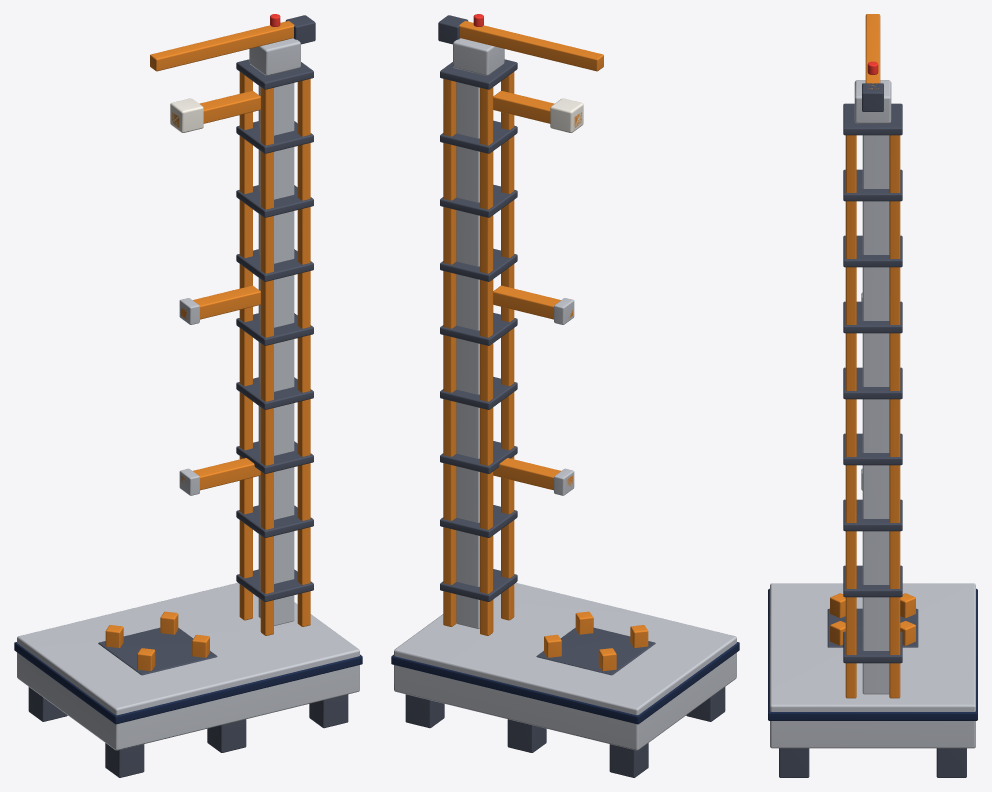
The model's file is Scene_LaunchPad.glb.
The picture shows the model from 3 angles, left to right: view 1: azimuth 30°, elevation 25°; view 2: azimuth 150°, elevation 25°; view 3: azimuth 270°, elevation 25°; orthographic projection. The views are drawn at different scales.
Visible parts, largest first — view 1: Scene_LaunchPad.Tower, Scene_LaunchPad.Platform, Scene_LaunchPad.Crane, Scene_LaunchPad.Legs, Scene_LaunchPad.Move_Arm_3, Scene_LaunchPad.Move_Arm_2, Scene_LaunchPad.Move_Arm_1, Scene_LaunchPad.HoldDowns; view 2: Scene_LaunchPad.Tower, Scene_LaunchPad.Platform, Scene_LaunchPad.Crane, Scene_LaunchPad.Legs, Scene_LaunchPad.Move_Arm_3, Scene_LaunchPad.Move_Arm_2, Scene_LaunchPad.Move_Arm_1, Scene_LaunchPad.HoldDowns; view 3: Scene_LaunchPad.Tower, Scene_LaunchPad.Platform, Scene_LaunchPad.Crane, Scene_LaunchPad.Legs, Scene_LaunchPad.HoldDowns.
Boxes of the visible parts, x1=… form: Scene_LaunchPad.Tower: x1=236, y1=59, x2=313, y2=635; Scene_LaunchPad.Platform: x1=14, y1=583, x2=362, y2=750; Scene_LaunchPad.Crane: x1=150, y1=15, x2=315, y2=75; Scene_LaunchPad.Legs: x1=28, y1=687, x2=348, y2=777; Scene_LaunchPad.Move_Arm_3: x1=170, y1=91, x2=260, y2=132; Scene_LaunchPad.Move_Arm_2: x1=179, y1=285, x2=260, y2=324; Scene_LaunchPad.Move_Arm_1: x1=179, y1=458, x2=260, y2=495; Scene_LaunchPad.HoldDowns: x1=105, y1=611, x2=209, y2=671; Scene_LaunchPad.Tower: x1=440, y1=59, x2=517, y2=635; Scene_LaunchPad.Platform: x1=391, y1=583, x2=739, y2=750; Scene_LaunchPad.Crane: x1=438, y1=15, x2=603, y2=75; Scene_LaunchPad.Legs: x1=405, y1=687, x2=725, y2=777; Scene_LaunchPad.Move_Arm_3: x1=493, y1=91, x2=583, y2=132; Scene_LaunchPad.Move_Arm_2: x1=493, y1=285, x2=574, y2=324; Scene_LaunchPad.Move_Arm_1: x1=493, y1=458, x2=574, y2=495; Scene_LaunchPad.HoldDowns: x1=544, y1=611, x2=648, y2=671; Scene_LaunchPad.Tower: x1=843, y1=103, x2=902, y2=698; Scene_LaunchPad.Platform: x1=768, y1=583, x2=977, y2=748; Scene_LaunchPad.Crane: x1=854, y1=14, x2=891, y2=123; Scene_LaunchPad.Legs: x1=779, y1=748, x2=966, y2=777; Scene_LaunchPad.HoldDowns: x1=830, y1=593, x2=915, y2=645.
Size of the model in its own units: 48.6 by 127 by 34.6.
Materials: 1 (1 with a texture image).
